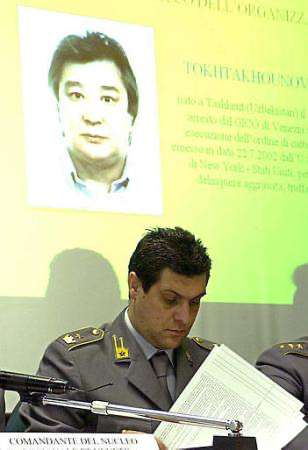Face: (58, 62, 133, 175), (142, 268, 209, 344)
